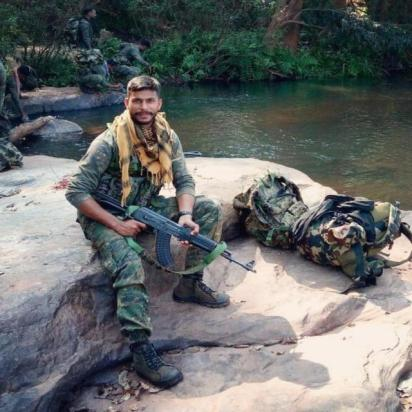Gun: (88, 189, 258, 275)
